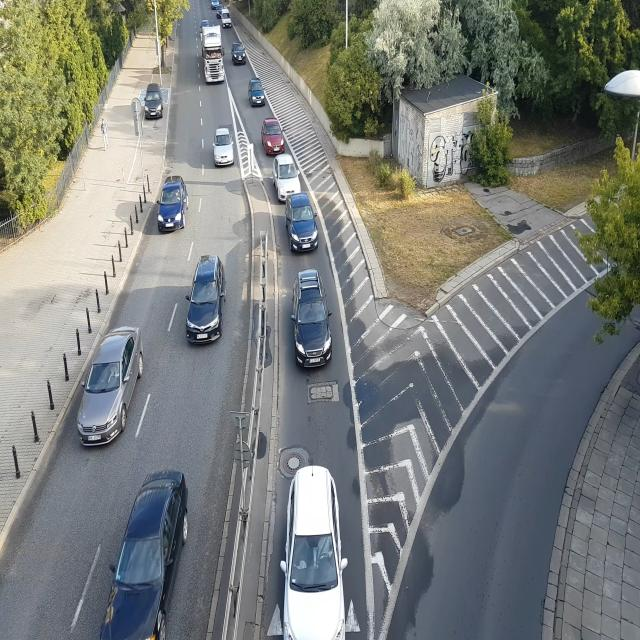car: (104, 467, 194, 640), (276, 458, 350, 640), (78, 330, 140, 445), (184, 253, 226, 347), (293, 271, 334, 367), (284, 194, 320, 254), (156, 176, 189, 232), (274, 154, 301, 205), (213, 129, 236, 170), (261, 117, 285, 156), (144, 84, 165, 119), (249, 80, 268, 108), (231, 43, 246, 63), (222, 19, 232, 28), (211, 1, 219, 11)
truck: (201, 23, 223, 91)
